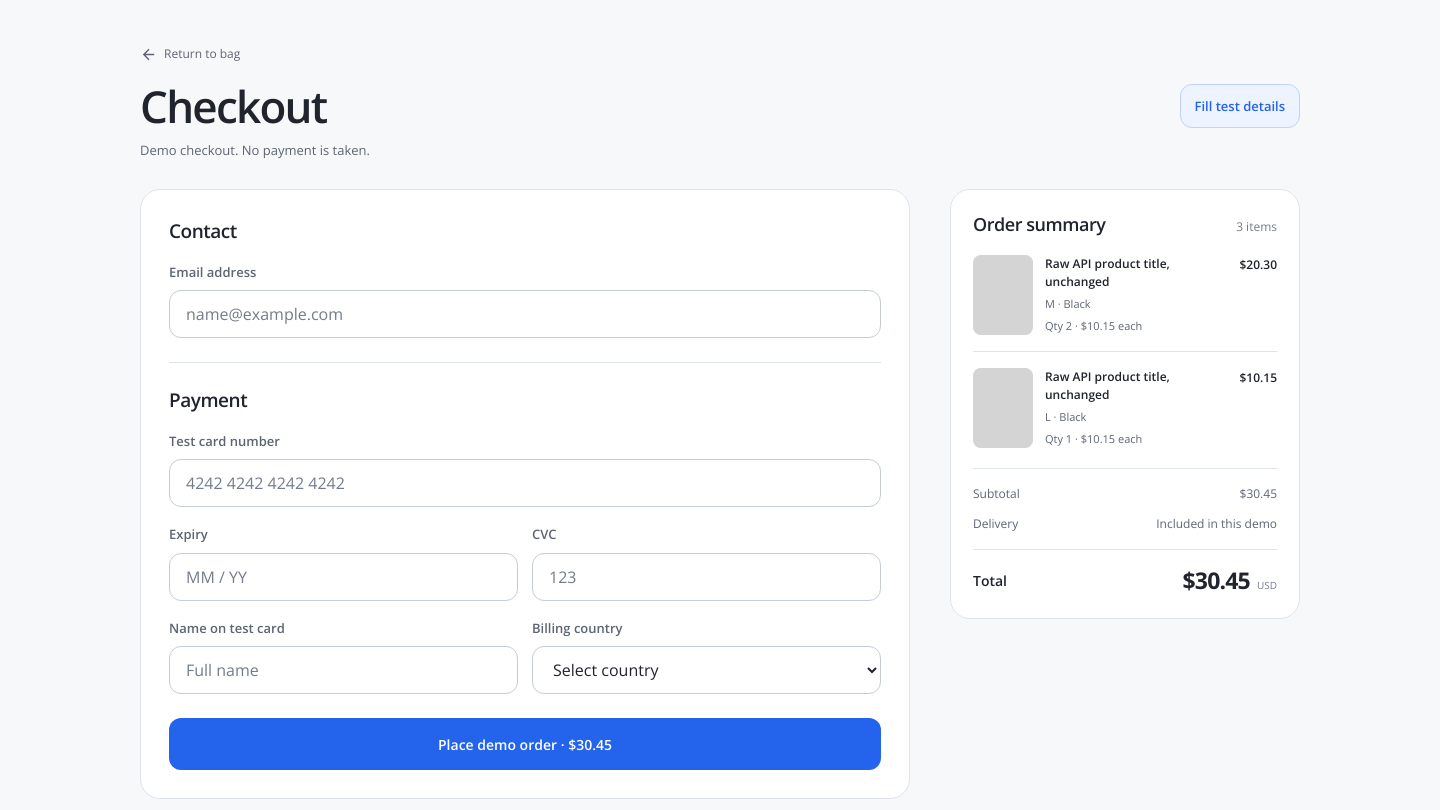
Scenario: grouped checkout keeps validation focus, test filling and processing controls
Click the button "Place demo order · $30.45" at (525, 744), box x1=169 y1=718 x2=881 y2=770
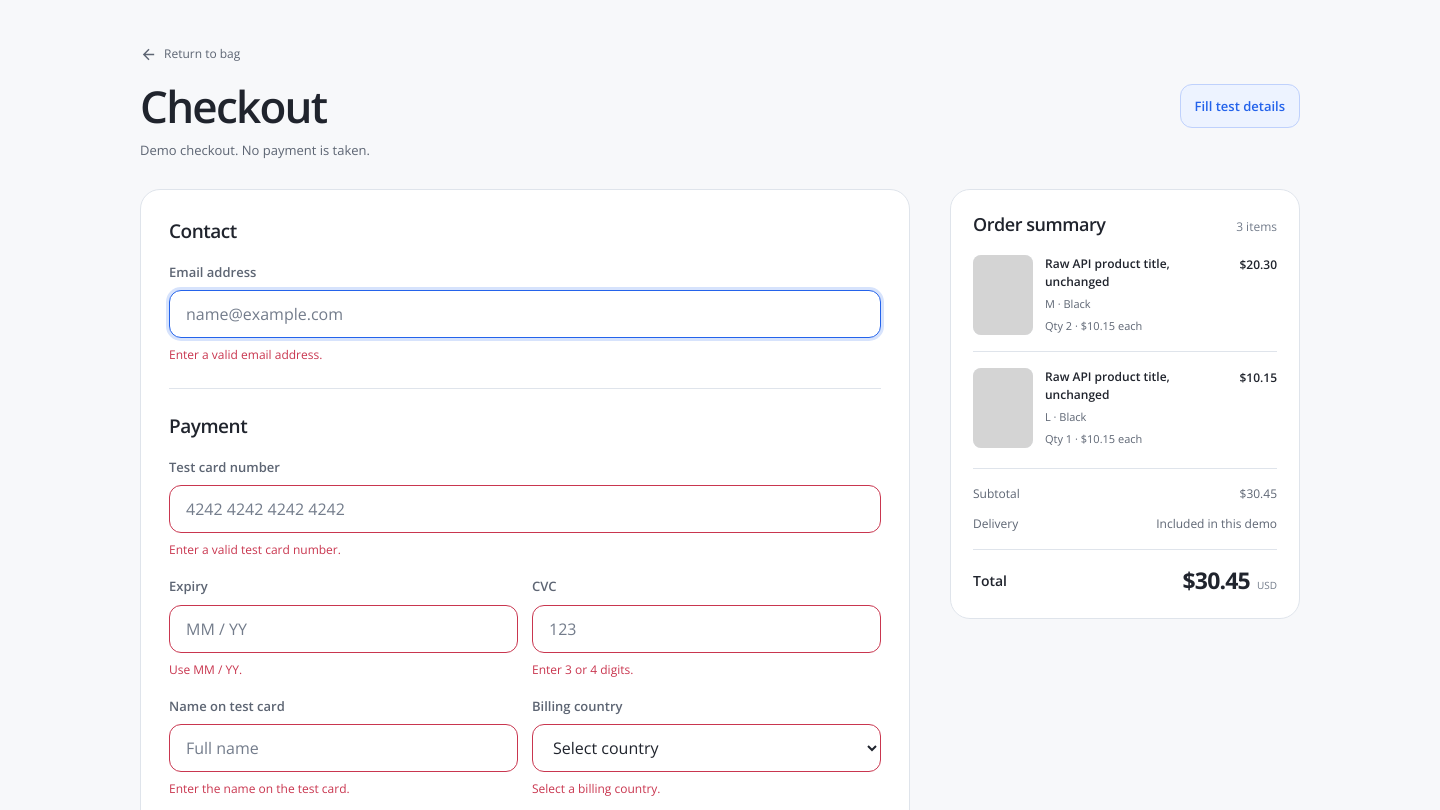
Expected: the number of messages is 6, x1=169 y1=346 x2=322 y2=363; x1=169 y1=542 x2=341 y2=558; x1=169 y1=661 x2=242 y2=678; x1=532 y1=661 x2=633 y2=678; x1=169 y1=780 x2=350 y2=798; x1=532 y1=780 x2=660 y2=798
Click the button "Fill test details" at (1240, 106), box x1=1180 y1=84 x2=1300 y2=128
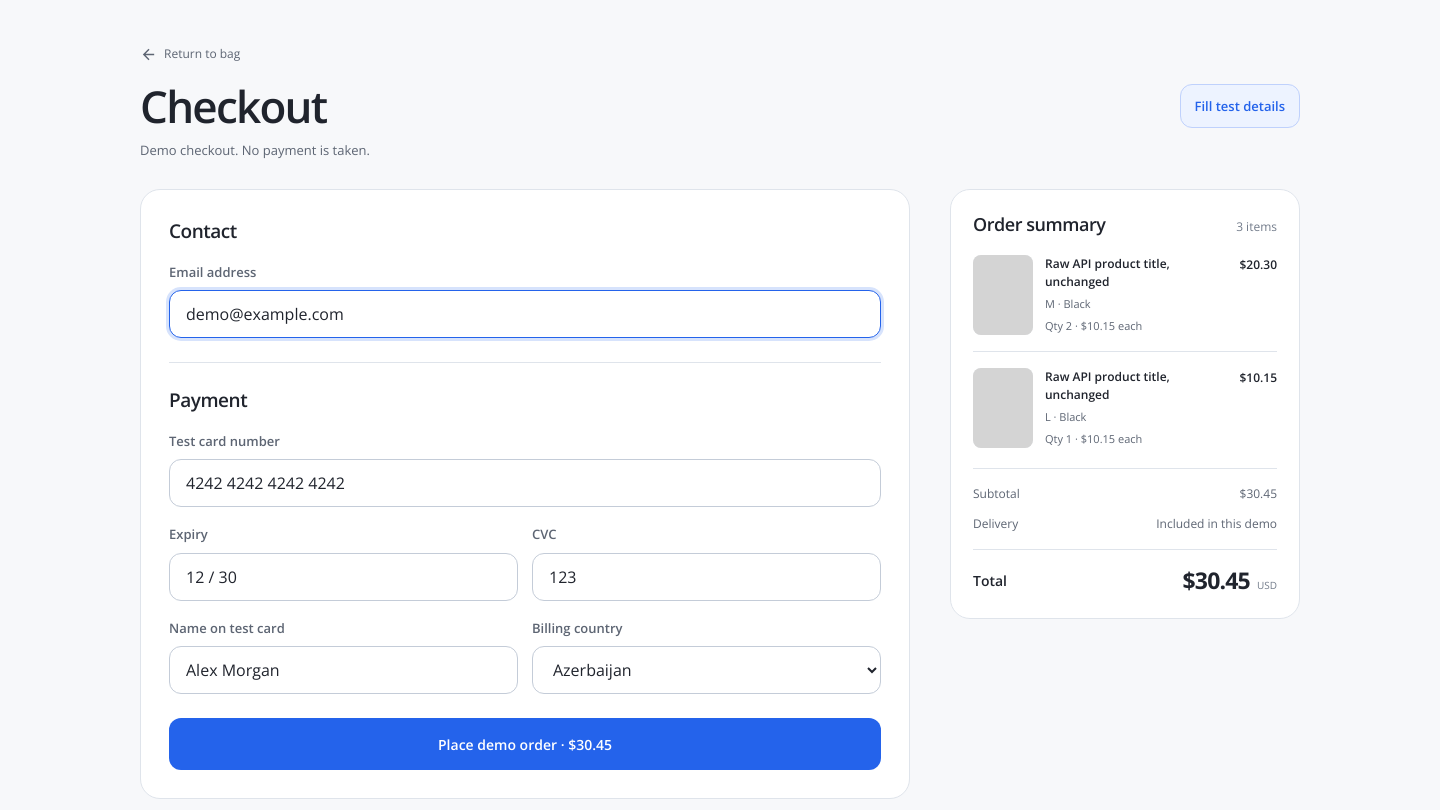
Expected: the field labelled "Email address" holds "demo@example.com", x1=169 y1=290 x2=881 y2=338
Expected: the field labelled "Test card number" holds "4242 4242 4242 4242", x1=169 y1=460 x2=881 y2=508
Expected: no messages are shown
Click the button "Place demo order · $30.45" at (525, 744), box x1=169 y1=718 x2=881 y2=770
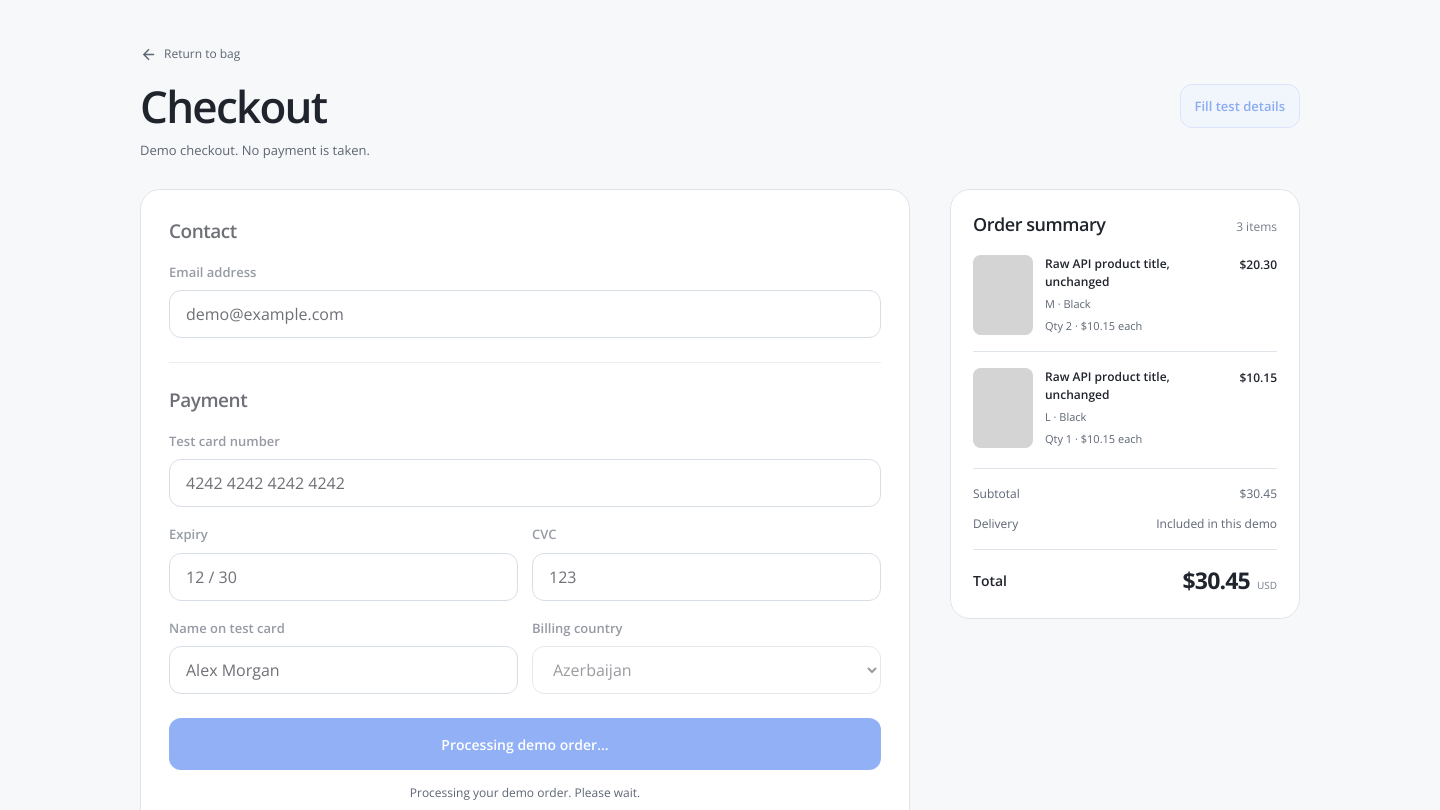
Expected: the element "Contact" is disabled, x1=169 y1=218 x2=881 y2=363
Expected: the element "Payment" is disabled, x1=169 y1=387 x2=881 y2=694
Expected: the button "Fill test details" is disabled, x1=1180 y1=84 x2=1300 y2=128
